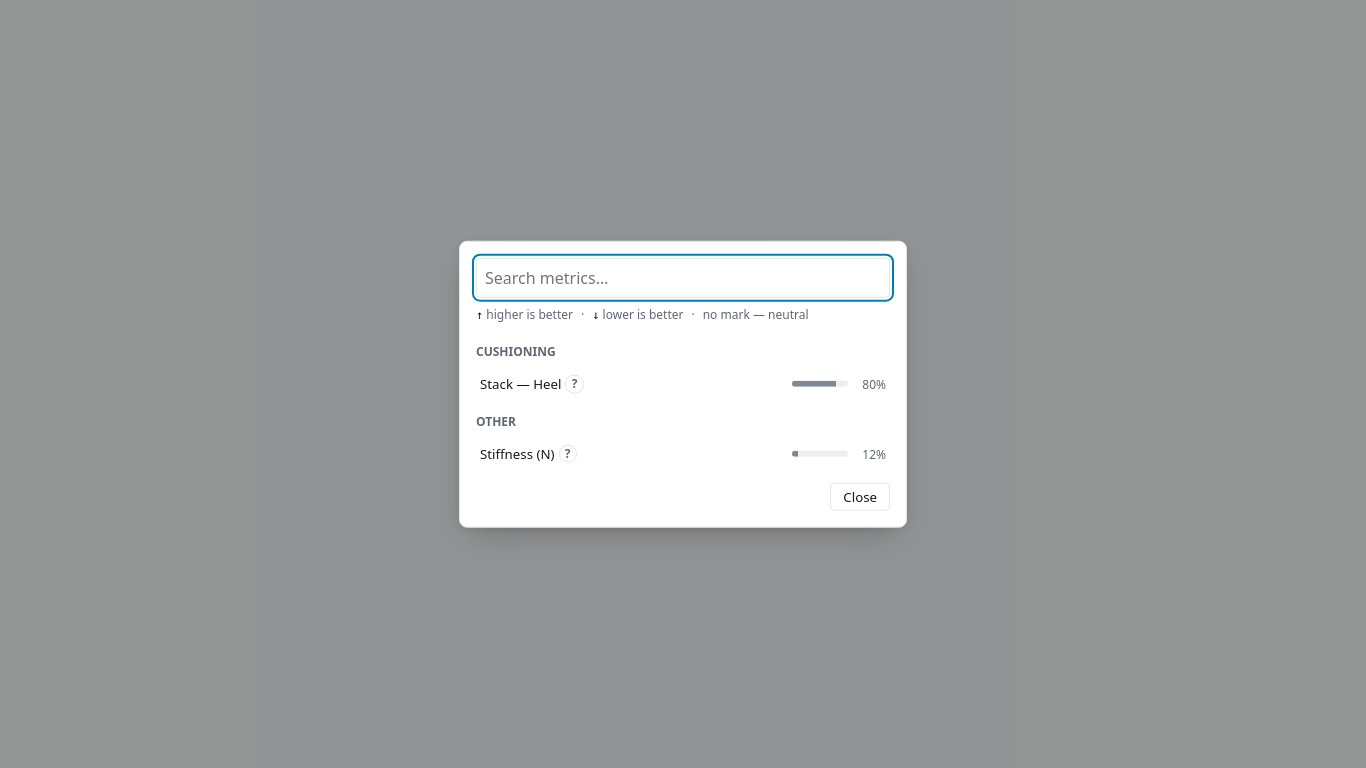
Scenario: AddFilterDialog › narrows the list from the text filter
The width and height of the screenshot is (1366, 768).
Step 1. Type "stiff" into the search field named "Filter metrics" → (683, 278), box [476,258,890,298]
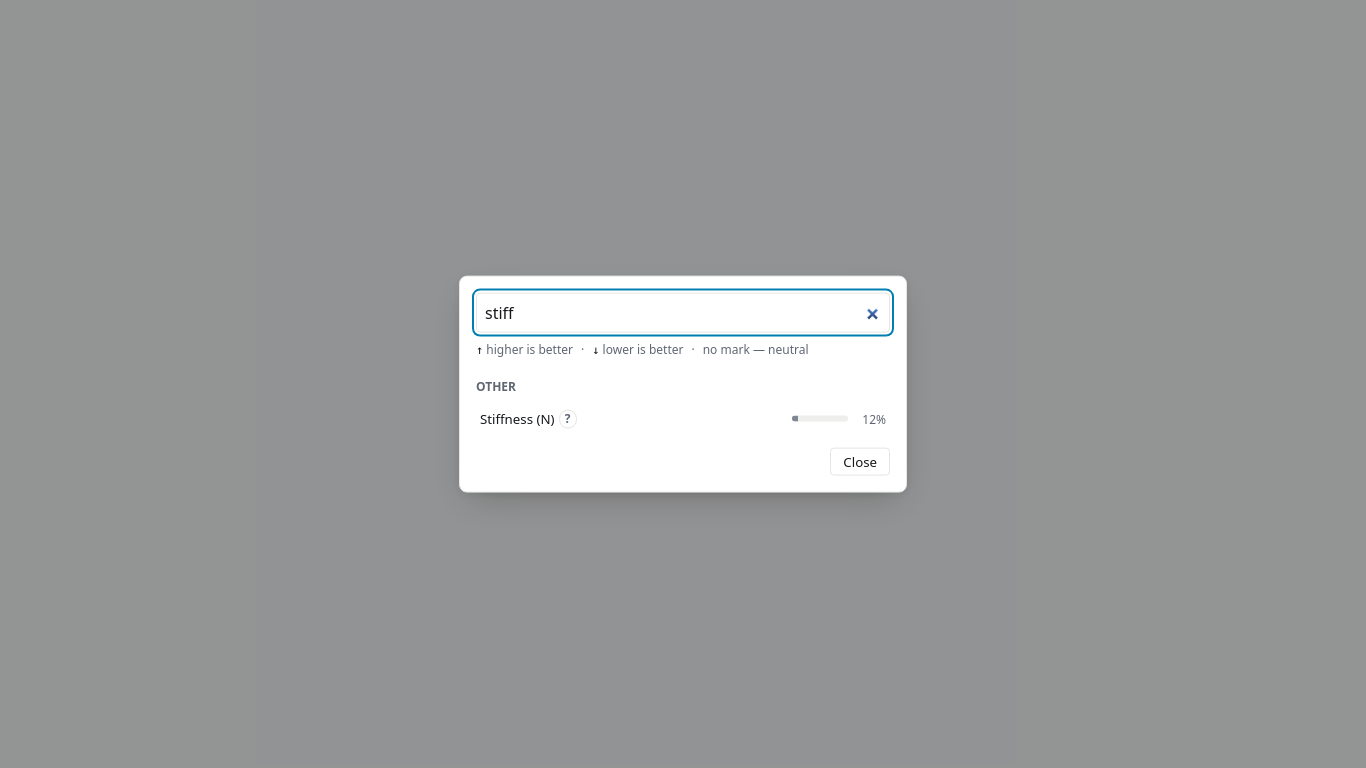
Expected: the button named "Add filter: Stiffness (N)" is shown, [476,403,890,435]
Expected: the heading "Cushioning" is gone
